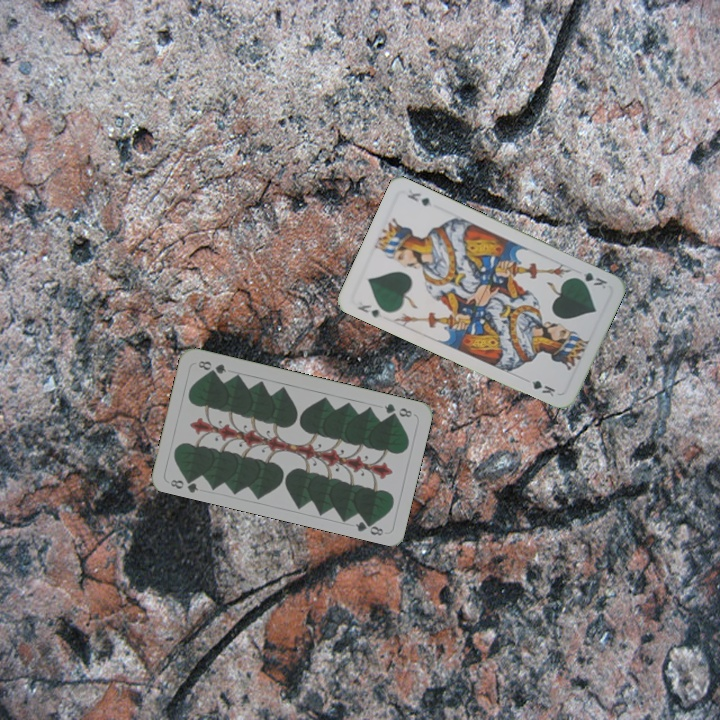G8: (166, 472, 201, 495), (380, 399, 415, 420)
GK: (570, 268, 609, 292), (353, 301, 382, 320)
